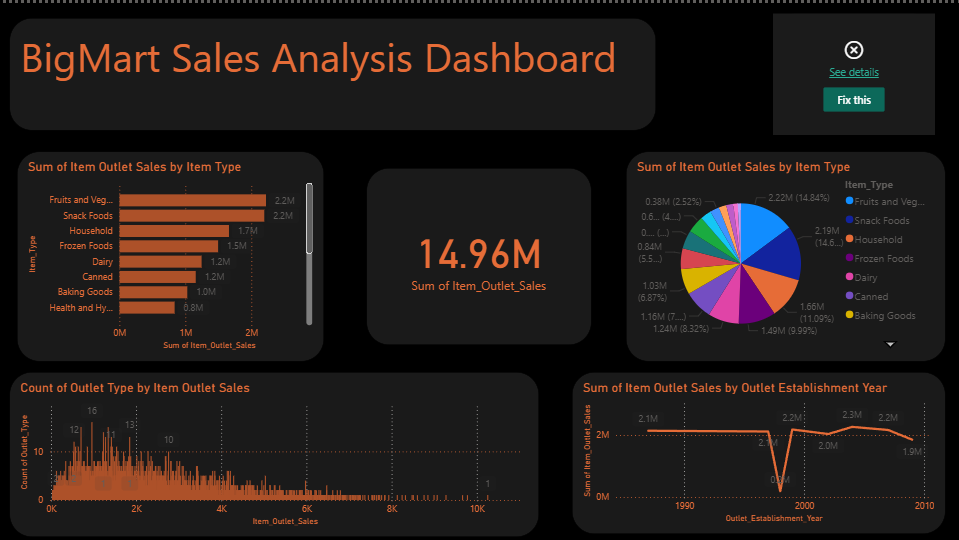

This screenshot's page, from the dashboard's own definition file:
{"tool":"powerbi","page":{"name":"Page 1","canvas":[1280,720],"ordinal":0},"visuals":[{"type":"clusteredBarChart","title":"Sum of Item Outlet Sales by Item Type","fields":{"Category":["CleanedBigMartSales.Item_Type"],"Y":["Sum(CleanedBigMartSales.Item_Outlet_Sales)"]},"box":[24.8,198.8,409.2,279.9],"z":0},{"type":"columnChart","title":"Count of Outlet Type by Item Outlet Sales","fields":{"Category":["CleanedBigMartSales.Item_Outlet_Sales"],"Y":["CountNonNull(CleanedBigMartSales.Outlet_Type)"]},"box":[14,492,706,220],"z":1000},{"type":"lineChart","title":"Sum of Item Outlet Sales by Outlet Establishment Year","fields":{"Category":["CleanedBigMartSales.Outlet_Establishment_Year"],"Y":["Sum(CleanedBigMartSales.Item_Outlet_Sales)"]},"box":[764,492,498,216],"z":2000},{"type":"slicer","fields":{"Values":["CleanedBigMartSales.Item_Fat_Content"]},"box":[1032,14,216,162],"z":3000},{"type":"card","fields":{"Values":["Sum(CleanedBigMartSales.Item_Outlet_Sales)"]},"box":[490,220,300,236],"z":4000},{"type":"pieChart","title":"Sum of Item Outlet Sales by Item Type","fields":{"Category":["CleanedBigMartSales.Item_Type"],"Y":["Sum(CleanedBigMartSales.Item_Outlet_Sales)"]},"box":[836,198,426,280],"z":5000},{"type":"textbox","box":[14,20,862,150],"z":6000}]}

Visuals, with their boxes in screenshot pixels (x1, y1, x2, y2), scaled from the page's 1280x720 canvas onto the 959x540 screenshot:
"Sum of Item Outlet Sales by Item Type" clusteredBarChart: {"x1": 19, "y1": 149, "x2": 325, "y2": 359}
"Count of Outlet Type by Item Outlet Sales" columnChart: {"x1": 10, "y1": 369, "x2": 539, "y2": 534}
"Sum of Item Outlet Sales by Outlet Establishment Year" lineChart: {"x1": 572, "y1": 369, "x2": 946, "y2": 531}
slicer - CleanedBigMartSales.Item_Fat_Content: {"x1": 773, "y1": 10, "x2": 935, "y2": 132}
card - Sum(CleanedBigMartSales.Item_Outlet_Sales): {"x1": 367, "y1": 165, "x2": 592, "y2": 342}
"Sum of Item Outlet Sales by Item Type" pieChart: {"x1": 626, "y1": 148, "x2": 946, "y2": 358}
textbox: {"x1": 10, "y1": 15, "x2": 656, "y2": 128}
